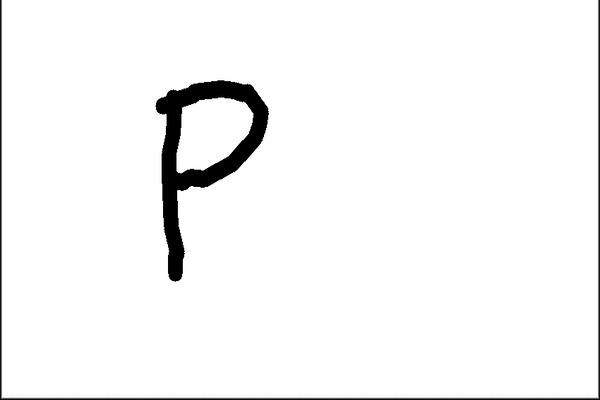P: (138, 81, 288, 291)
